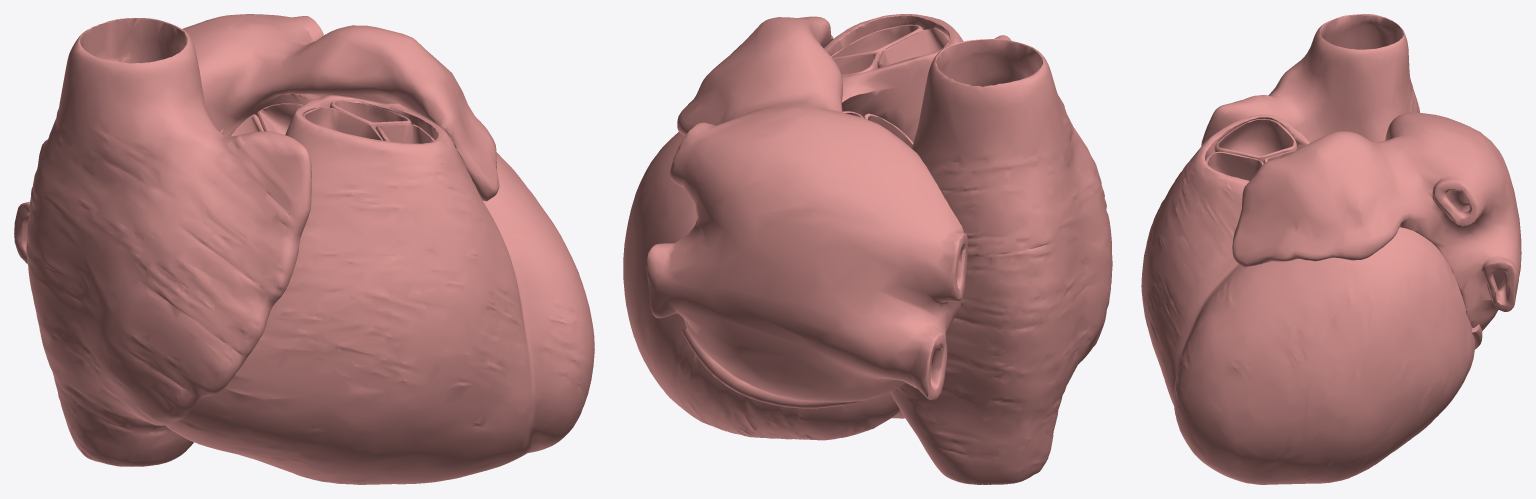
File: coeur-thorax.hi.glb
3 renders of one model, left to right at view 1: azimuth 30°, elevation 25°; view 2: azimuth 150°, elevation 25°; view 3: azimuth 270°, elevation 25°, orthographic. The views are drawn at different scales.
Visible parts, largest first — view 1: FJ2428, FJ2439, FJ2438, FJ2434, FJ2427, FJ2426, FJ2417; view 2: FJ2438, FJ2439, FJ2428, FJ2655, FJ2434, FJ2417, FJ2427; view 3: FJ2428, FJ2438, FJ2439, FJ2434, FJ2417.
Boxes of the visible parts, x1=… form: FJ2428: x1=166, y1=94, x2=594, y2=484; FJ2439: x1=26, y1=18, x2=311, y2=466; FJ2438: x1=14, y1=14, x2=499, y2=263; FJ2434: x1=302, y1=107, x2=382, y2=140; FJ2427: x1=330, y1=100, x2=411, y2=128; FJ2426: x1=257, y1=103, x2=303, y2=134; FJ2417: x1=375, y1=123, x2=434, y2=143; FJ2438: x1=646, y1=16, x2=967, y2=402; FJ2439: x1=890, y1=35, x2=1112, y2=484; FJ2428: x1=623, y1=14, x2=963, y2=440; FJ2655: x1=681, y1=328, x2=863, y2=408; FJ2434: x1=877, y1=28, x2=949, y2=68; FJ2417: x1=831, y1=24, x2=923, y2=58; FJ2427: x1=833, y1=52, x2=879, y2=75; FJ2428: x1=1141, y1=114, x2=1475, y2=484; FJ2438: x1=1232, y1=112, x2=1521, y2=330; FJ2439: x1=1201, y1=14, x2=1420, y2=145; FJ2434: x1=1215, y1=118, x2=1297, y2=163; FJ2417: x1=1205, y1=151, x2=1263, y2=180.
Bounding box in the file's own units: 0.1154 × 0.1053 × 0.1064.
